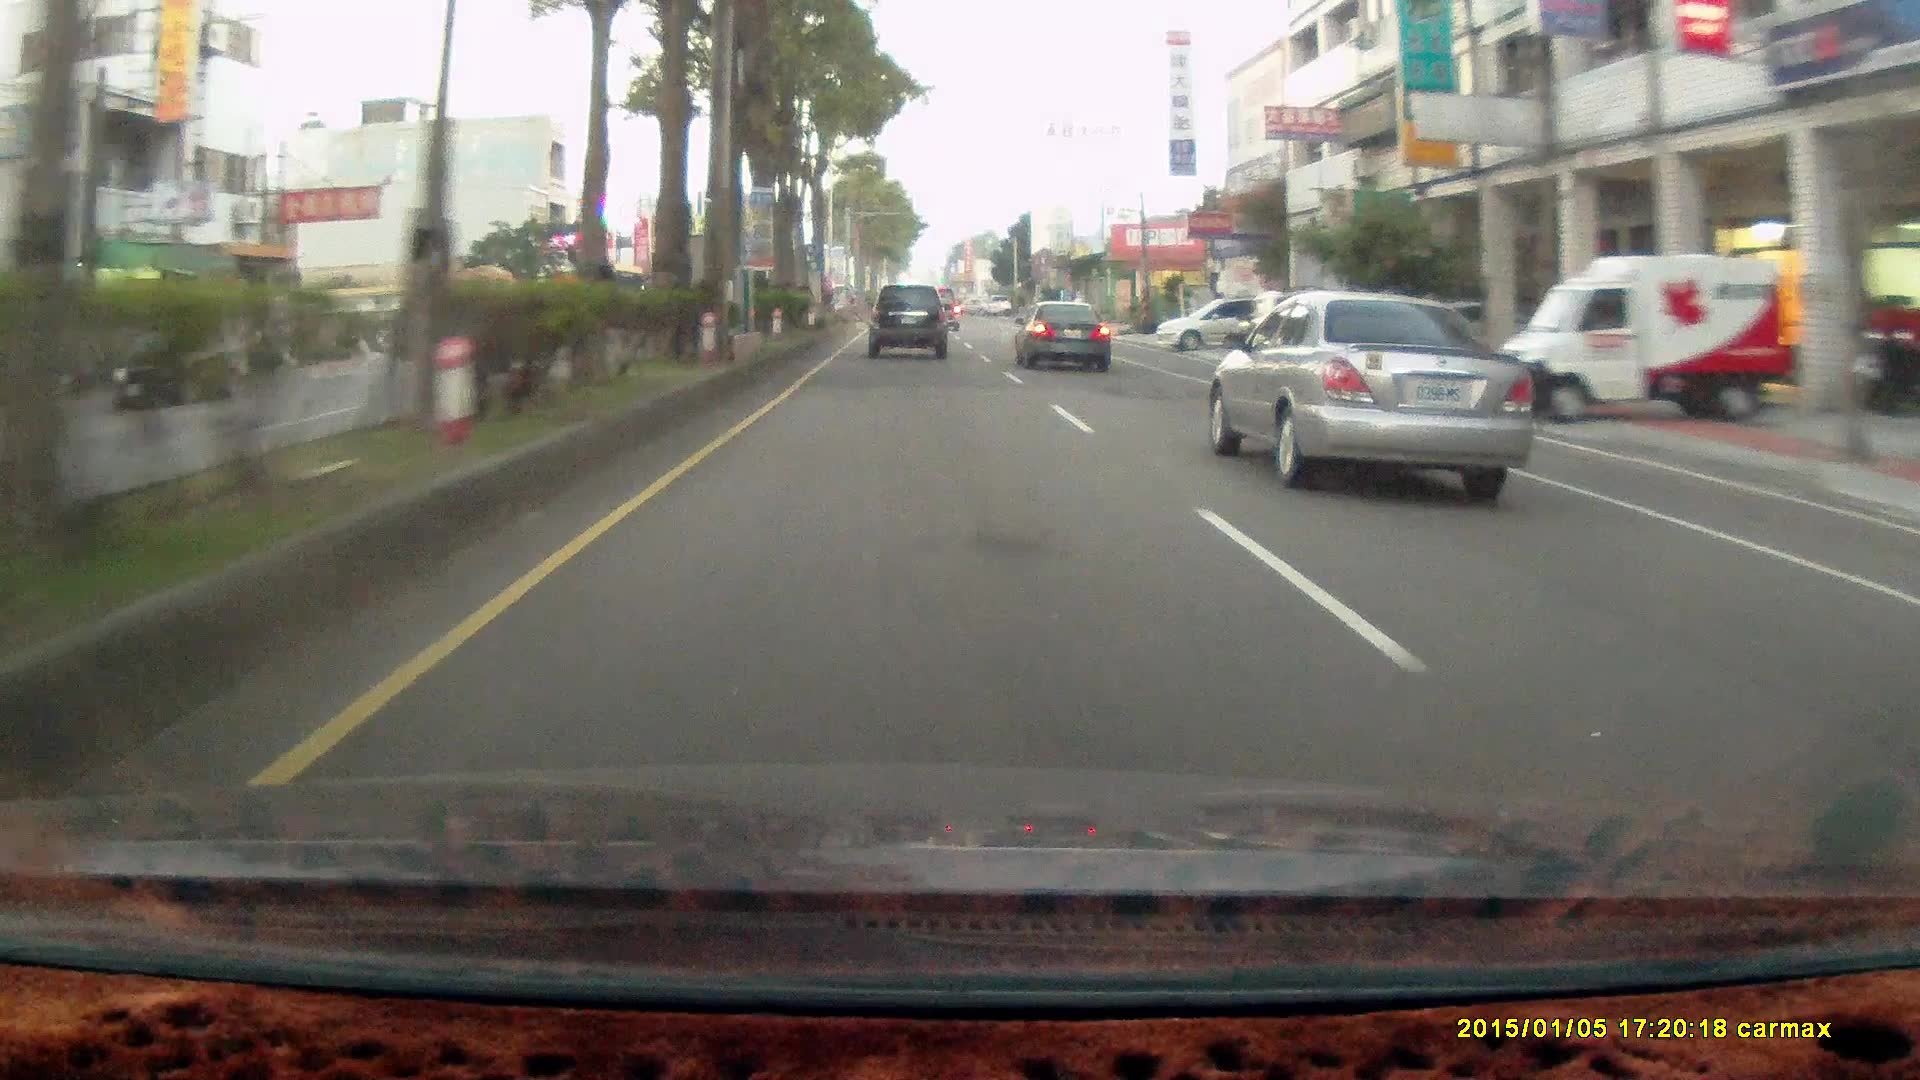vehicle: (1217, 290, 1544, 489), (1497, 253, 1795, 423), (1497, 255, 1785, 423), (111, 322, 249, 407), (1249, 286, 1364, 369), (1150, 299, 1295, 360), (1153, 295, 1298, 353), (1013, 301, 1116, 375), (1013, 299, 1110, 372), (868, 284, 952, 363), (866, 284, 947, 359)
